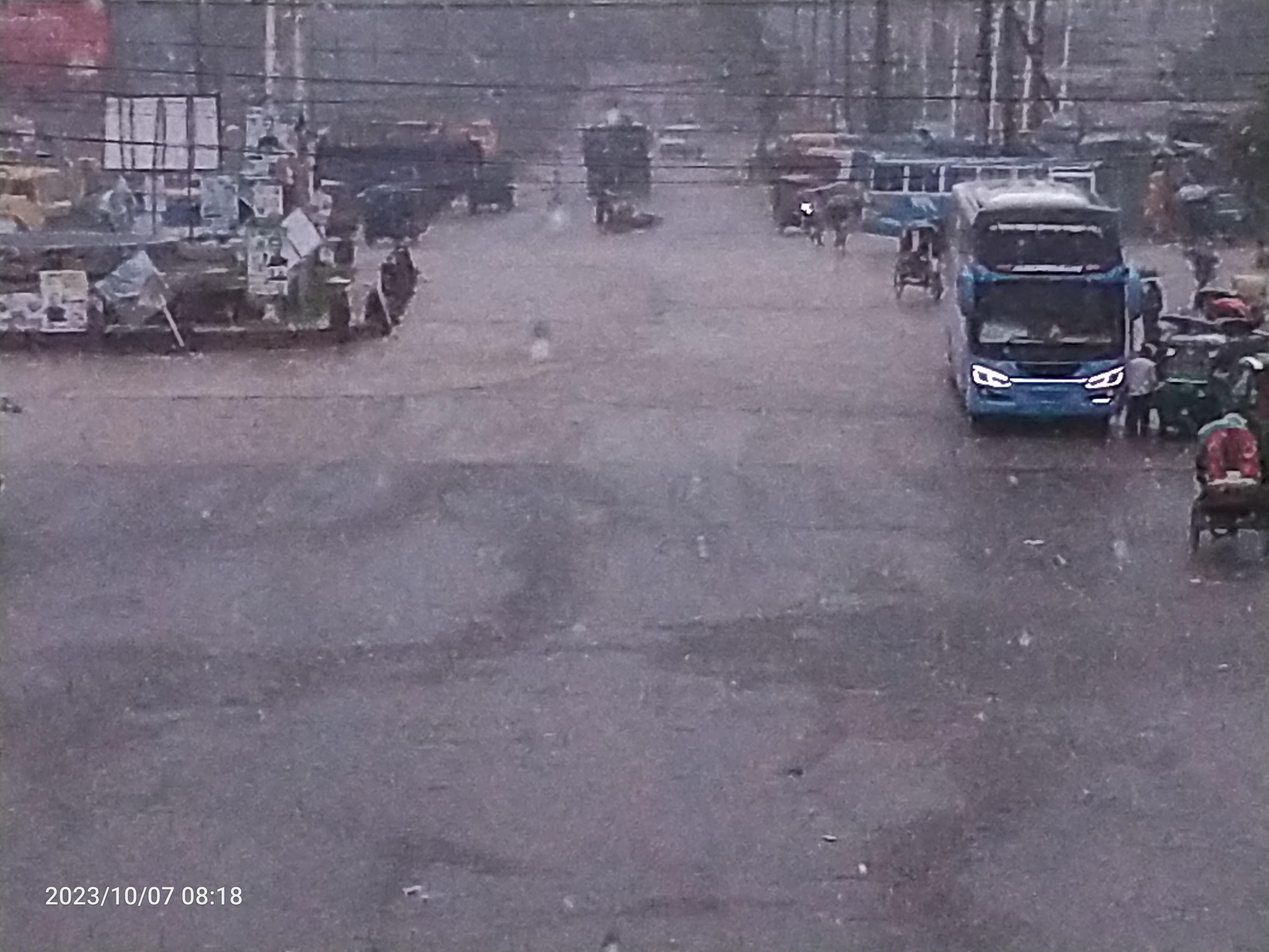Bus: (923, 157, 1148, 459), (851, 139, 1165, 261), (563, 110, 671, 210)
Car: (1181, 408, 1269, 621), (869, 201, 958, 311), (651, 107, 720, 181)
